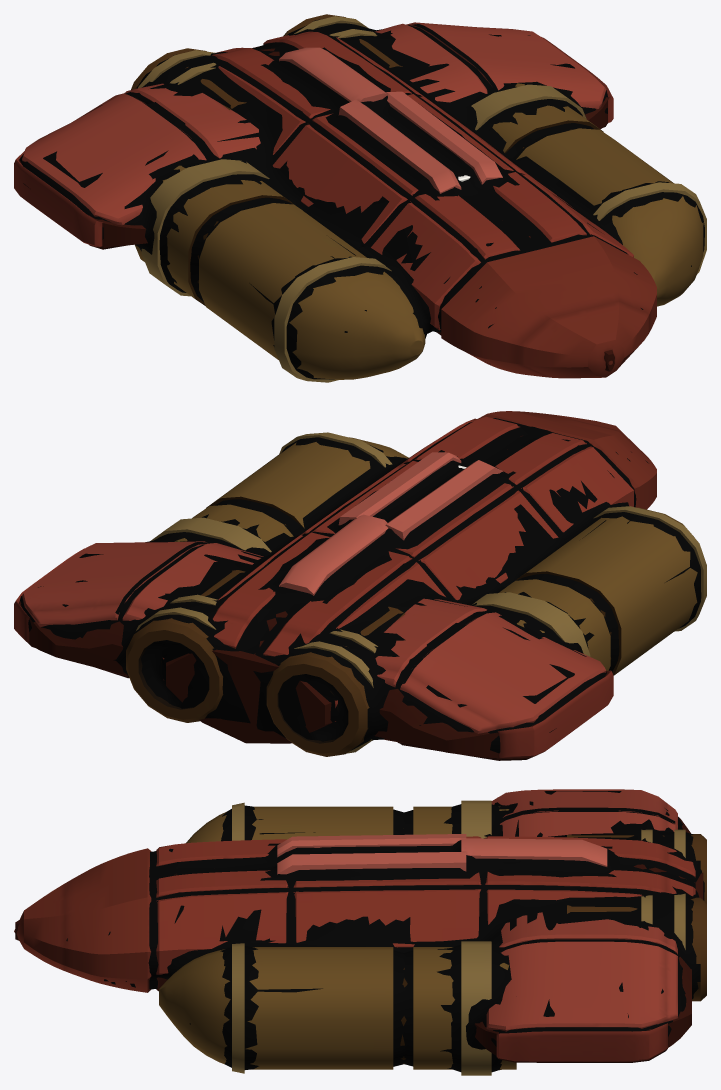
File: tyrian10-279.glb
3 views of the same model, one above another, from view 1: azimuth 30°, elevation 25°; view 2: azimuth 150°, elevation 25°; view 3: azimuth 270°, elevation 25° (orthographic). The views are drawn at different scales.
Visible parts, largest first — view 1: tyrian10-279, tyrian10-279_outline; view 2: tyrian10-279, tyrian10-279_outline; view 3: tyrian10-279, tyrian10-279_outline.
Boxes of the visible parts, x1,y1,x2,y2 form: tyrian10-279: (14, 14, 706, 382); tyrian10-279_outline: (19, 19, 704, 379); tyrian10-279: (14, 411, 706, 760); tyrian10-279_outline: (20, 418, 701, 753); tyrian10-279: (14, 789, 706, 1075); tyrian10-279_outline: (66, 791, 704, 1072).
Size of the model in its own units: 1.89 by 0.5679 by 2.29.
Materials: 12 (10 with a texture image).
